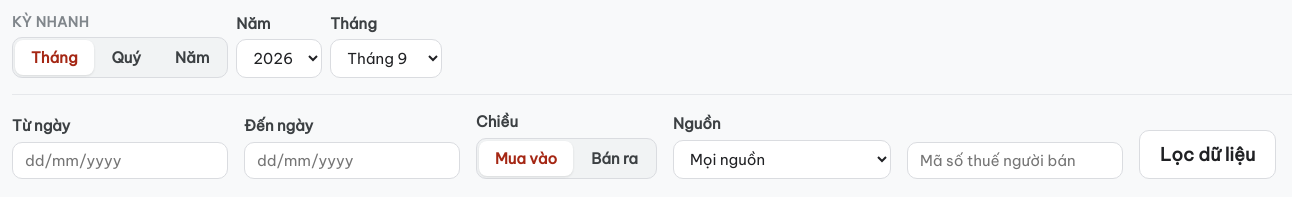
Test: B1 — ẩn ô MST theo chiều lọc (segmented, mặc định Mua vào) › bấm 'Bán ra' → KHÔNG render MST người bán, hiện ô chọn Khách hàng
Click the button "Bán ra": (615, 158) [575, 140, 654, 176]
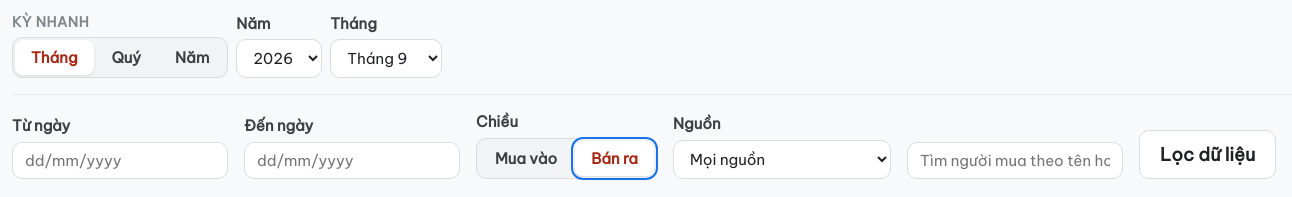
Expected: the field labelled "Mã số thuế người bán" is not shown
Now the dropdown labelled "người mua" is shown, box [907, 142, 1123, 178]
